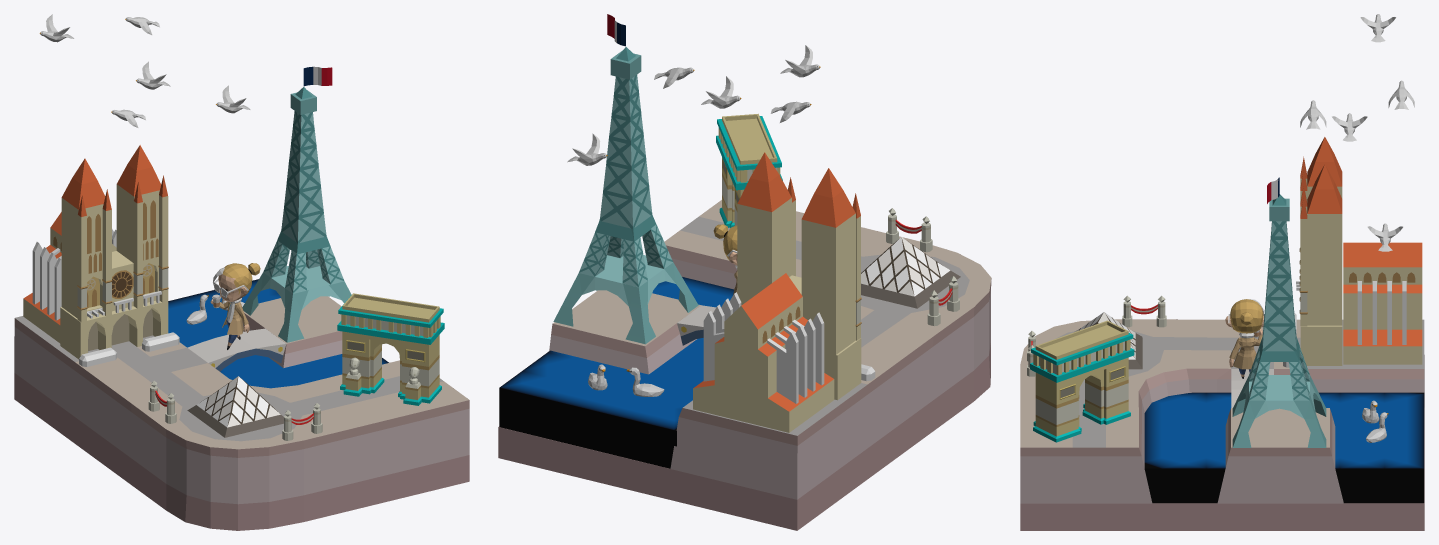
File: 0011_Paris.fbx
The picture shows the model from 3 angles, left to right: view 1: azimuth 30°, elevation 25°; view 2: azimuth 150°, elevation 25°; view 3: azimuth 270°, elevation 25°; orthographic projection. The views are drawn at different scales.
Parts seen in each view (by area): view 1: plate, main, gate_main, top, [water]waters, column (×4), Louvre, low, bridge, middle, back, head (+1 smaller); view 2: plate, [water]waters, main, back, top, low, Louvre, gate_main, column_back (×4), middle, column_back_1, bridge (+2 smaller); view 3: plate, [water]waters, gate_main, back, main, top, low, middle, head, column, Louvre, body.
Part boxes in pixels (box(x1,y1,x2,y2)): plate: box(14, 296, 469, 530); main: box(60, 145, 168, 359); gate_main: box(337, 293, 444, 403); top: box(277, 66, 332, 254); [water]waters: box(168, 279, 388, 388); column (×4): box(77, 175, 168, 322); Louvre: box(187, 376, 283, 437); low: box(242, 266, 351, 342); bridge: box(187, 328, 286, 371); middle: box(263, 240, 344, 293); back: box(23, 212, 116, 343); head: box(218, 263, 260, 301); plate: box(498, 200, 991, 530); [water]waters: box(499, 277, 733, 468); main: box(737, 152, 861, 400); back: box(693, 273, 834, 432); top: box(595, 14, 656, 241); low: box(553, 255, 698, 344); Louvre: box(861, 237, 960, 308); gate_main: box(716, 113, 782, 227); column_back (×4): box(767, 312, 824, 403); middle: box(579, 224, 672, 287); column_back_1: box(703, 311, 724, 381); bridge: box(677, 305, 716, 345); plate: box(1020, 319, 1424, 530); [water]waters: box(1144, 392, 1424, 503); gate_main: box(1030, 320, 1134, 442); back: box(1343, 242, 1422, 364); main: box(1300, 137, 1342, 365); top: box(1259, 177, 1299, 361); low: box(1232, 375, 1326, 447); middle: box(1249, 346, 1309, 400); head: box(1225, 299, 1263, 333); column: box(1299, 197, 1307, 326); Louvre: box(1074, 312, 1142, 369); body: box(1233, 337, 1256, 369).
Bounding box in the file's own units: 8.94 × 12.86 × 11.86.
